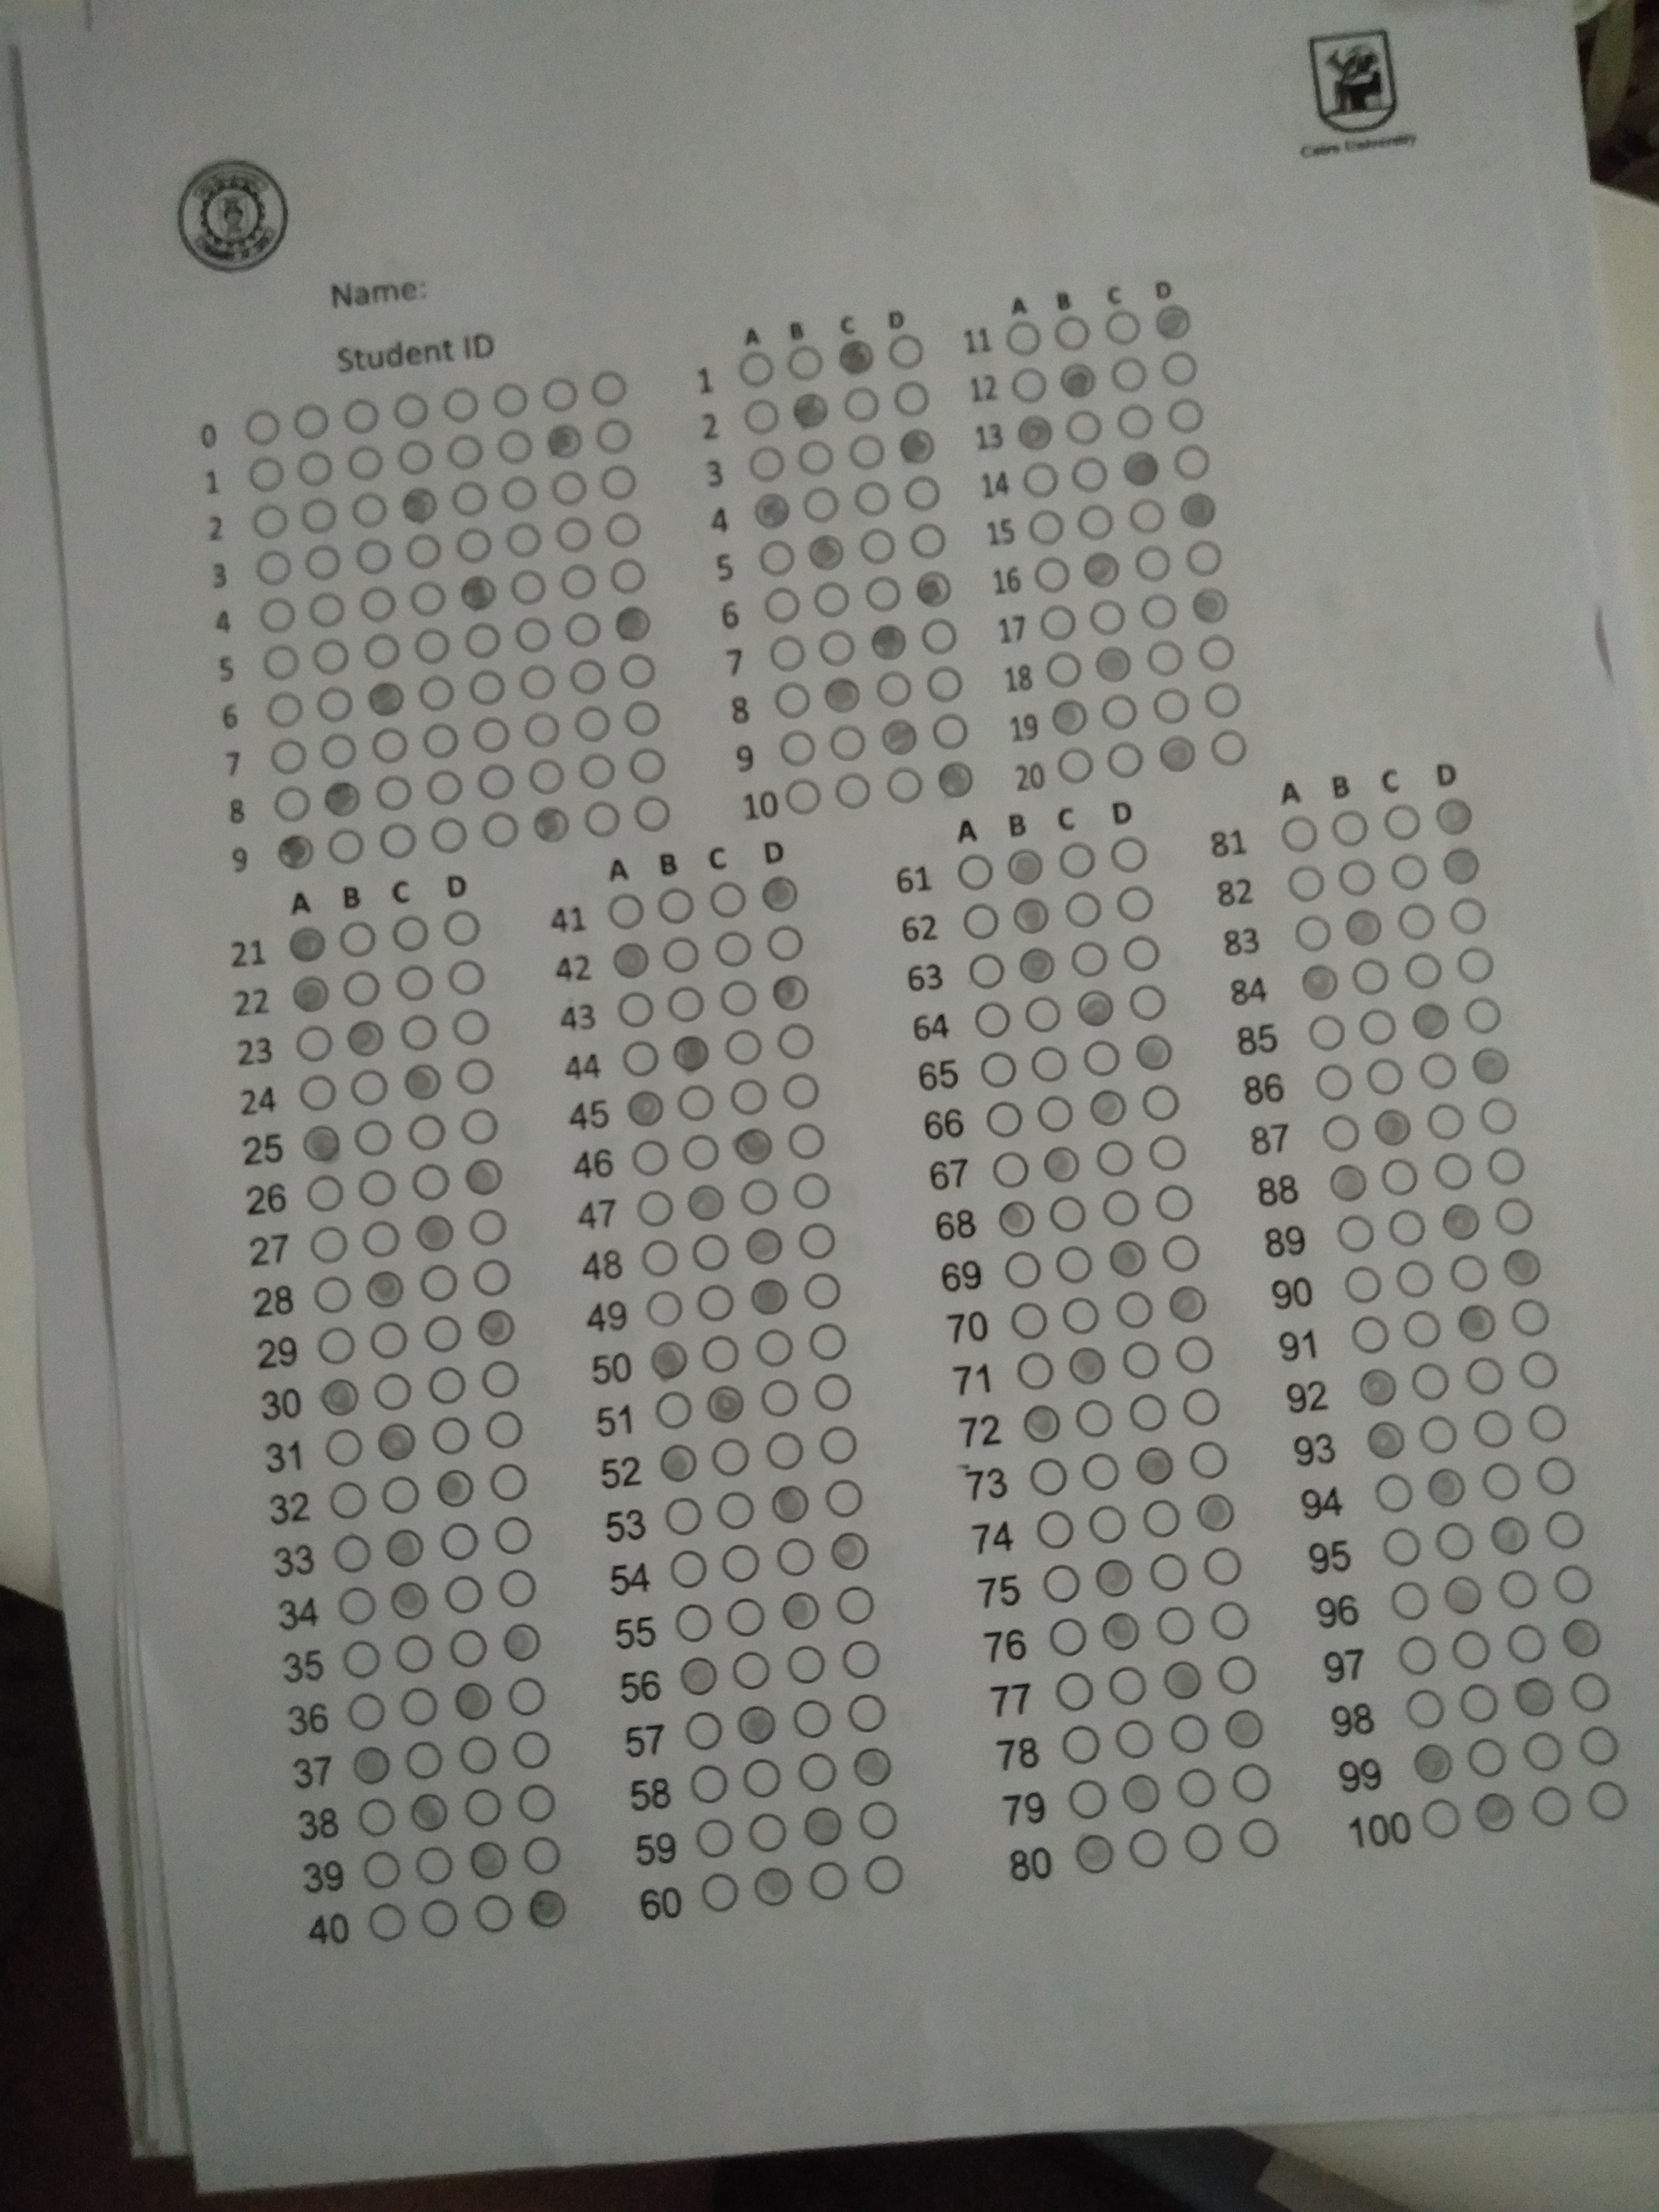not-c: (1046, 1615, 1091, 1660), (1398, 1634, 1443, 1679), (1492, 1195, 1537, 1240), (1033, 1507, 1077, 1554), (1209, 1599, 1253, 1646), (1053, 1669, 1096, 1716), (1060, 1723, 1103, 1770), (1066, 1778, 1110, 1825), (1466, 1737, 1509, 1784), (1450, 1627, 1493, 1674), (1405, 1688, 1448, 1735), (1373, 1470, 1417, 1517), (1544, 1508, 1588, 1555), (1577, 1724, 1621, 1771), (1335, 1212, 1378, 1259), (1385, 1205, 1429, 1252), (1319, 1109, 1363, 1157), (1377, 1155, 1420, 1202), (1417, 1050, 1460, 1097), (1455, 946, 1499, 993), (1403, 948, 1446, 995), (1351, 954, 1394, 1001), (1291, 911, 1335, 958), (1382, 799, 1425, 846), (1277, 812, 1321, 859), (406, 1109, 450, 1155), (305, 1172, 349, 1217), (315, 1324, 359, 1369), (366, 1318, 410, 1364), (420, 1312, 464, 1357), (467, 1207, 511, 1252), (336, 1583, 380, 1629), (446, 1629, 490, 1674), (392, 1632, 436, 1677), (413, 1844, 457, 1890), (857, 1799, 901, 1844), (741, 1756, 784, 1801), (683, 1709, 727, 1754), (836, 1583, 880, 1629), (673, 1601, 716, 1646), (728, 1648, 772, 1693), (775, 1536, 819, 1581), (662, 1494, 706, 1540), (714, 1489, 758, 1534), (817, 1423, 861, 1468), (701, 1334, 744, 1379), (779, 1068, 823, 1113), (714, 927, 758, 972), (664, 982, 708, 1028), (690, 1231, 734, 1277), (737, 1174, 781, 1219), (727, 1076, 770, 1122), (718, 979, 762, 1024), (706, 878, 749, 923), (831, 772, 875, 817), (770, 678, 814, 723), (1040, 1561, 1084, 1606), (1147, 1552, 1190, 1597), (1202, 1545, 1246, 1590), (1155, 1604, 1199, 1649), (1114, 1719, 1157, 1764), (1107, 1665, 1150, 1710), (1216, 1655, 1260, 1700), (1166, 1712, 1209, 1757), (1175, 1766, 1218, 1811), (1230, 1761, 1274, 1806), (1236, 1817, 1279, 1862), (1183, 1820, 1227, 1865), (1127, 1829, 1171, 1874), (1420, 1799, 1464, 1844), (1459, 1683, 1502, 1728), (1387, 1580, 1431, 1625), (1380, 1526, 1424, 1571), (1434, 1521, 1478, 1566), (1495, 1566, 1539, 1611), (1553, 1564, 1596, 1609), (1537, 1454, 1581, 1500), (1481, 1460, 1525, 1505), (1473, 1406, 1516, 1451), (1527, 1402, 1570, 1447), (1417, 1413, 1460, 1458), (1506, 1622, 1549, 1667), (1570, 1670, 1614, 1716), (1586, 1778, 1629, 1824), (1530, 1785, 1574, 1831), (1521, 1730, 1565, 1775), (1464, 1355, 1507, 1400), (1518, 1348, 1561, 1393), (1509, 1298, 1553, 1343), (1399, 1306, 1443, 1352), (1349, 1315, 1392, 1360), (1410, 1360, 1453, 1406), (1394, 1258, 1438, 1303), (1446, 1251, 1490, 1296), (1342, 1263, 1385, 1308), (1485, 1148, 1528, 1193), (1474, 1097, 1518, 1143), (1424, 1101, 1467, 1146), (1432, 1151, 1476, 1197), (1460, 995, 1504, 1040), (1448, 895, 1492, 941), (1396, 899, 1439, 944), (1354, 1005, 1398, 1050), (1307, 1012, 1351, 1057), (1310, 1061, 1354, 1106), (1363, 1055, 1406, 1101), (1288, 862, 1331, 907), (1335, 859, 1378, 904), (1387, 852, 1431, 897), (1330, 806, 1373, 852), (457, 1106, 500, 1150), (359, 1217, 403, 1261), (310, 1273, 354, 1317), (418, 1263, 462, 1306), (472, 1256, 516, 1299), (324, 1426, 368, 1470), (326, 1479, 369, 1522), (378, 1475, 422, 1519), (429, 1416, 472, 1460), (486, 1461, 530, 1505), (439, 1522, 483, 1566), (329, 1533, 373, 1576), (443, 1573, 486, 1616), (497, 1568, 540, 1611), (342, 1641, 385, 1684), (397, 1684, 441, 1728), (502, 1676, 545, 1719), (401, 1740, 444, 1784), (355, 1797, 399, 1841), (514, 1782, 558, 1825), (362, 1850, 406, 1893), (366, 1902, 410, 1946), (694, 1818, 737, 1862), (746, 1811, 789, 1855), (796, 1752, 840, 1796), (688, 1766, 732, 1810), (847, 1691, 890, 1735), (840, 1639, 884, 1683), (784, 1644, 828, 1688), (720, 1543, 763, 1587), (666, 1548, 709, 1592), (823, 1479, 866, 1522), (763, 1432, 807, 1475), (653, 1388, 697, 1432), (760, 1378, 803, 1421), (812, 1372, 856, 1416), (807, 1322, 850, 1366), (753, 1325, 796, 1369), (695, 1282, 739, 1325), (645, 1287, 688, 1331), (789, 1170, 833, 1214), (775, 1021, 819, 1064), (763, 921, 807, 965), (629, 1137, 673, 1181), (723, 1028, 767, 1071), (615, 989, 659, 1033), (620, 1040, 664, 1083), (953, 852, 997, 895), (775, 730, 819, 773), (826, 723, 870, 766), (925, 664, 969, 707), (873, 669, 917, 712), (762, 585, 805, 629), (758, 538, 802, 582), (746, 444, 789, 488), (739, 395, 782, 439), (734, 350, 777, 394), (782, 343, 826, 387), (355, 1167, 397, 1212), (308, 1223, 350, 1268), (483, 1409, 525, 1454), (491, 1514, 533, 1559), (418, 1895, 460, 1940), (793, 1698, 835, 1743), (725, 1595, 767, 1641), (803, 1270, 845, 1315), (796, 1219, 838, 1264), (681, 1132, 723, 1177), (782, 777, 824, 822), (929, 712, 971, 758), (769, 632, 810, 678), (352, 1116, 394, 1160), (410, 1160, 451, 1204), (481, 1359, 523, 1402), (429, 1366, 471, 1409), (375, 1371, 416, 1414), (345, 1691, 387, 1735), (512, 1730, 554, 1773), (458, 1735, 500, 1778), (464, 1787, 505, 1831), (521, 1836, 563, 1879), (472, 1892, 514, 1935), (699, 1872, 741, 1916), (807, 1860, 849, 1904), (864, 1855, 906, 1898), (709, 1437, 751, 1480), (786, 1120, 828, 1163), (660, 935, 702, 979), (674, 1082, 716, 1125), (640, 1238, 681, 1282), (634, 1188, 676, 1231), (657, 885, 699, 928), (606, 890, 648, 934), (884, 765, 925, 808), (816, 629, 857, 671), (1166, 397, 1208, 439), (1110, 354, 1152, 395), (1004, 319, 1046, 361), (1086, 597, 1127, 639), (1061, 888, 1103, 930), (1080, 1040, 1122, 1082), (1033, 1094, 1075, 1136), (1154, 1183, 1195, 1224), (1079, 1451, 1121, 1493), (1187, 1440, 1229, 1482), (1140, 1498, 1182, 1540), (1086, 1505, 1127, 1547), (589, 369, 629, 411), (568, 657, 608, 698), (362, 629, 403, 671), (272, 784, 312, 826), (471, 714, 511, 756), (526, 758, 566, 799), (622, 698, 662, 740), (885, 331, 925, 373), (890, 378, 931, 420), (842, 383, 882, 425), (847, 434, 889, 474), (795, 437, 836, 477), (802, 484, 842, 526), (852, 477, 892, 519), (903, 474, 943, 516), (910, 521, 950, 563), (857, 526, 897, 568), (810, 580, 850, 622), (861, 575, 901, 617), (918, 618, 958, 660), (1077, 502, 1117, 543), (1127, 498, 1168, 540), (1159, 348, 1199, 390), (1117, 401, 1157, 442), (1065, 408, 1105, 449), (1070, 455, 1110, 496), (1021, 460, 1061, 502), (1011, 366, 1051, 408), (1051, 315, 1091, 357), (1103, 310, 1143, 352), (1185, 536, 1225, 578), (1133, 543, 1173, 585), (1138, 592, 1178, 634), (1145, 637, 1185, 679), (1152, 683, 1192, 725), (1204, 681, 1244, 723), (1105, 740, 1147, 780), (1100, 693, 1140, 735), (1046, 650, 1086, 691), (1032, 556, 1072, 597), (1056, 744, 1096, 786), (1108, 834, 1148, 876), (1114, 883, 1154, 925), (960, 902, 1000, 944), (967, 951, 1007, 993), (1068, 939, 1108, 981), (1121, 934, 1161, 975), (1127, 982, 1168, 1024), (978, 1050, 1018, 1092), (990, 1150, 1030, 1191), (1094, 1137, 1134, 1179), (1101, 1188, 1141, 1230), (1046, 1195, 1087, 1235), (1053, 1244, 1093, 1285), (1002, 1251, 1042, 1292), (1114, 1291, 1154, 1332), (1009, 1299, 1049, 1341), (1016, 1352, 1056, 1393), (1175, 1336, 1216, 1376), (1182, 1386, 1222, 1428), (1127, 1393, 1168, 1435), (1075, 1399, 1115, 1440), (1026, 1458, 1066, 1500), (392, 394, 432, 434), (491, 381, 532, 421), (540, 376, 580, 416), (598, 463, 638, 503), (605, 510, 645, 550), (558, 563, 598, 603), (495, 428, 535, 469), (617, 653, 657, 693), (464, 622, 504, 662), (411, 627, 451, 667), (408, 580, 448, 620), (404, 533, 444, 573), (396, 439, 436, 479), (349, 491, 389, 531), (354, 538, 394, 578), (359, 585, 399, 625), (307, 590, 347, 631), (251, 503, 291, 543), (268, 737, 308, 777), (315, 685, 355, 725), (373, 773, 413, 813), (422, 721, 462, 761), (573, 705, 613, 745), (627, 747, 667, 787), (579, 751, 619, 791), (582, 799, 622, 840), (633, 794, 673, 834), (481, 812, 521, 852), (430, 815, 471, 855), (376, 822, 416, 862), (446, 958, 486, 998), (293, 1024, 333, 1064), (399, 1014, 439, 1054), (451, 1008, 491, 1049), (457, 1059, 497, 1099), (298, 1073, 338, 1113), (1025, 507, 1065, 547), (1173, 444, 1213, 484), (1197, 632, 1237, 672), (1208, 728, 1248, 768), (1039, 603, 1079, 643), (1058, 843, 1098, 883), (1021, 996, 1061, 1036), (972, 1001, 1012, 1042), (1028, 1045, 1068, 1085), (1141, 1083, 1182, 1123), (985, 1101, 1025, 1141), (1147, 1132, 1187, 1172), (1161, 1233, 1201, 1273), (1061, 1298, 1101, 1338), (1122, 1341, 1162, 1381), (594, 416, 633, 458), (509, 566, 547, 608), (300, 498, 338, 540), (296, 448, 335, 489), (254, 549, 293, 590), (326, 827, 364, 869), (396, 963, 434, 1005), (350, 1068, 389, 1109), (242, 406, 281, 446), (291, 401, 329, 441), (342, 397, 380, 437), (443, 387, 481, 427), (608, 556, 647, 596), (556, 516, 594, 556), (551, 469, 589, 509), (500, 475, 538, 516), (446, 434, 484, 474), (450, 481, 488, 521), (455, 526, 493, 566), (504, 521, 542, 561), (512, 617, 551, 657), (563, 610, 601, 650), (519, 662, 558, 702), (469, 671, 507, 711), (345, 444, 383, 484), (312, 639, 350, 679), (303, 545, 342, 585), (247, 456, 286, 496), (258, 597, 296, 637), (261, 644, 300, 685), (267, 691, 305, 732), (319, 732, 357, 772), (371, 728, 410, 768), (418, 674, 457, 714), (425, 768, 464, 808), (525, 712, 563, 752), (477, 763, 516, 803), (338, 921, 376, 961), (392, 914, 430, 954), (443, 909, 481, 949), (342, 968, 380, 1008)
taken-c: (1133, 1442, 1176, 1487), (1194, 1491, 1237, 1536), (1093, 1555, 1136, 1601), (1101, 1609, 1145, 1655), (1412, 1742, 1455, 1787), (1513, 1676, 1556, 1721), (1560, 1616, 1603, 1662), (1443, 1575, 1486, 1620), (1490, 1514, 1534, 1559), (1364, 1420, 1408, 1465), (1356, 1366, 1399, 1411), (1455, 1303, 1499, 1348), (1500, 1245, 1544, 1291), (1439, 1202, 1483, 1247), (1326, 1162, 1370, 1207), (1469, 1043, 1513, 1089), (1298, 963, 1342, 1008), (1342, 907, 1385, 953), (1439, 845, 1483, 890), (1431, 796, 1474, 841), (1091, 641, 1134, 686), (1178, 489, 1222, 535), (1121, 448, 1164, 493), (1016, 413, 1060, 458), (1058, 359, 1101, 404), (1152, 301, 1195, 347), (789, 388, 833, 434), (751, 488, 795, 533), (805, 531, 849, 577), (821, 674, 864, 719), (932, 759, 976, 805), (274, 829, 317, 874), (457, 571, 500, 617), (540, 421, 584, 467), (828, 1529, 871, 1573), (779, 1590, 823, 1634), (676, 1655, 720, 1698), (852, 1745, 896, 1789), (802, 1804, 845, 1848), (751, 1865, 795, 1909), (526, 1888, 570, 1932), (408, 1792, 451, 1836), (349, 1745, 392, 1789), (451, 1679, 495, 1723), (500, 1622, 544, 1665), (387, 1580, 430, 1623), (382, 1527, 425, 1571), (434, 1468, 477, 1512), (319, 1378, 362, 1421), (362, 1268, 406, 1312), (476, 1306, 519, 1350), (413, 1214, 457, 1258), (462, 1157, 505, 1200), (300, 1123, 343, 1167), (343, 1019, 387, 1062), (286, 925, 329, 968), (1019, 1402, 1063, 1446), (1161, 1660, 1204, 1703), (1223, 1707, 1267, 1750), (1119, 1773, 1162, 1817), (1073, 1834, 1117, 1878), (1473, 1792, 1516, 1836), (1427, 1468, 1471, 1512), (1371, 1104, 1415, 1148), (1410, 1001, 1453, 1045), (1155, 733, 1199, 777), (1049, 698, 1093, 742), (1188, 585, 1232, 629), (1082, 552, 1126, 596), (833, 336, 877, 380), (897, 425, 941, 469), (913, 570, 957, 613), (866, 624, 910, 667), (878, 716, 922, 759), (530, 803, 573, 846), (612, 604, 655, 648), (321, 779, 364, 822), (364, 679, 408, 723), (397, 486, 441, 529), (769, 1484, 810, 1527), (735, 1703, 777, 1747), (469, 1841, 511, 1885), (376, 1421, 418, 1465), (401, 1061, 443, 1104), (288, 972, 329, 1015), (760, 874, 802, 916), (671, 1033, 713, 1075), (626, 1087, 667, 1129), (687, 1183, 728, 1224), (749, 1278, 791, 1320), (648, 1339, 690, 1381), (706, 1385, 748, 1426), (1006, 846, 1047, 888), (1011, 897, 1053, 939), (1087, 1089, 1129, 1130), (997, 1198, 1039, 1240), (1040, 1146, 1084, 1186), (610, 941, 652, 981), (770, 974, 812, 1014), (732, 1129, 774, 1169), (744, 1226, 786, 1266), (657, 1444, 699, 1484), (1016, 948, 1058, 988), (1075, 989, 1117, 1029), (1131, 1033, 1173, 1073), (1107, 1238, 1148, 1278), (1166, 1285, 1208, 1325), (1066, 1346, 1108, 1386)
